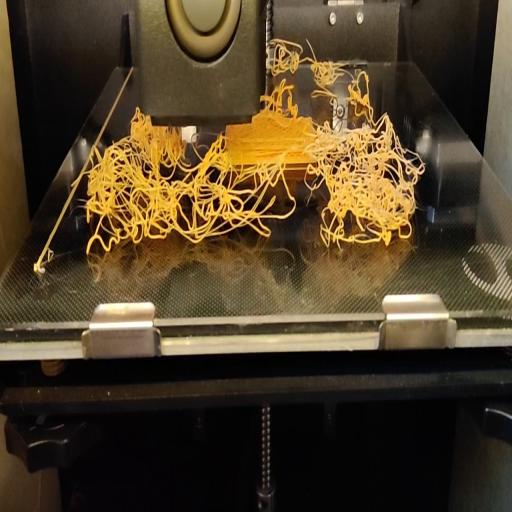spaghetti: (76, 108, 428, 256), (268, 27, 374, 110)
